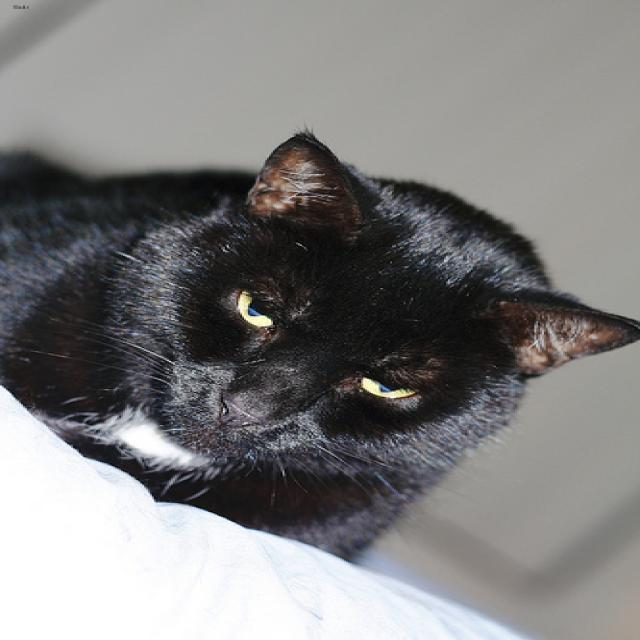Bombay: (110, 131, 638, 471)
